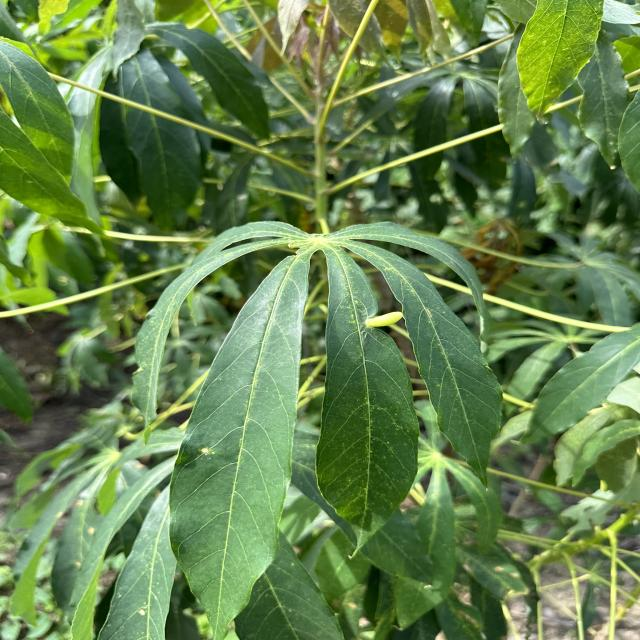Mosca: (360, 304, 403, 341), (74, 524, 113, 543), (61, 559, 98, 576)
